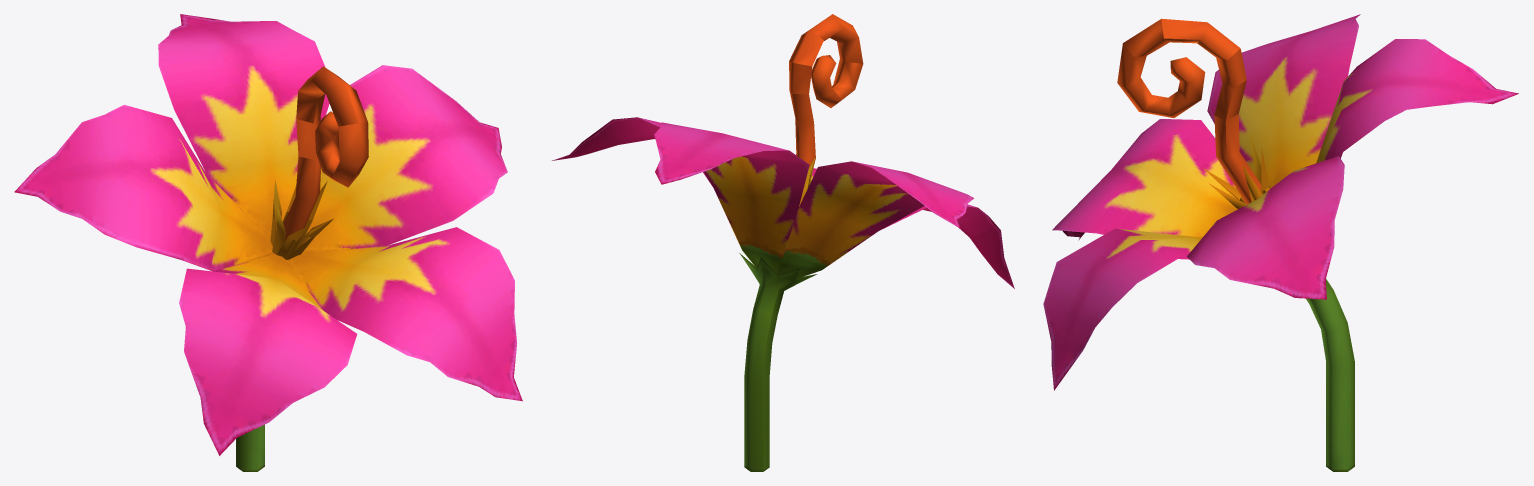
The model's file is PalmonFlower.FBX.
The picture shows the model from 3 angles, left to right: view 1: azimuth 30°, elevation 25°; view 2: azimuth 150°, elevation 25°; view 3: azimuth 270°, elevation 25°; orthographic projection. The views are drawn at different scales.
Visible parts, largest first — view 1: PalmonFlower; view 2: PalmonFlower; view 3: PalmonFlower.
Part boxes in pixels (x1,y1,x2,y2): PalmonFlower: (14, 14, 522, 471); PalmonFlower: (552, 14, 1014, 471); PalmonFlower: (1043, 14, 1518, 471).
Size of what is drawn, in the model's own units: 74.74 by 64.8 by 67.52.
